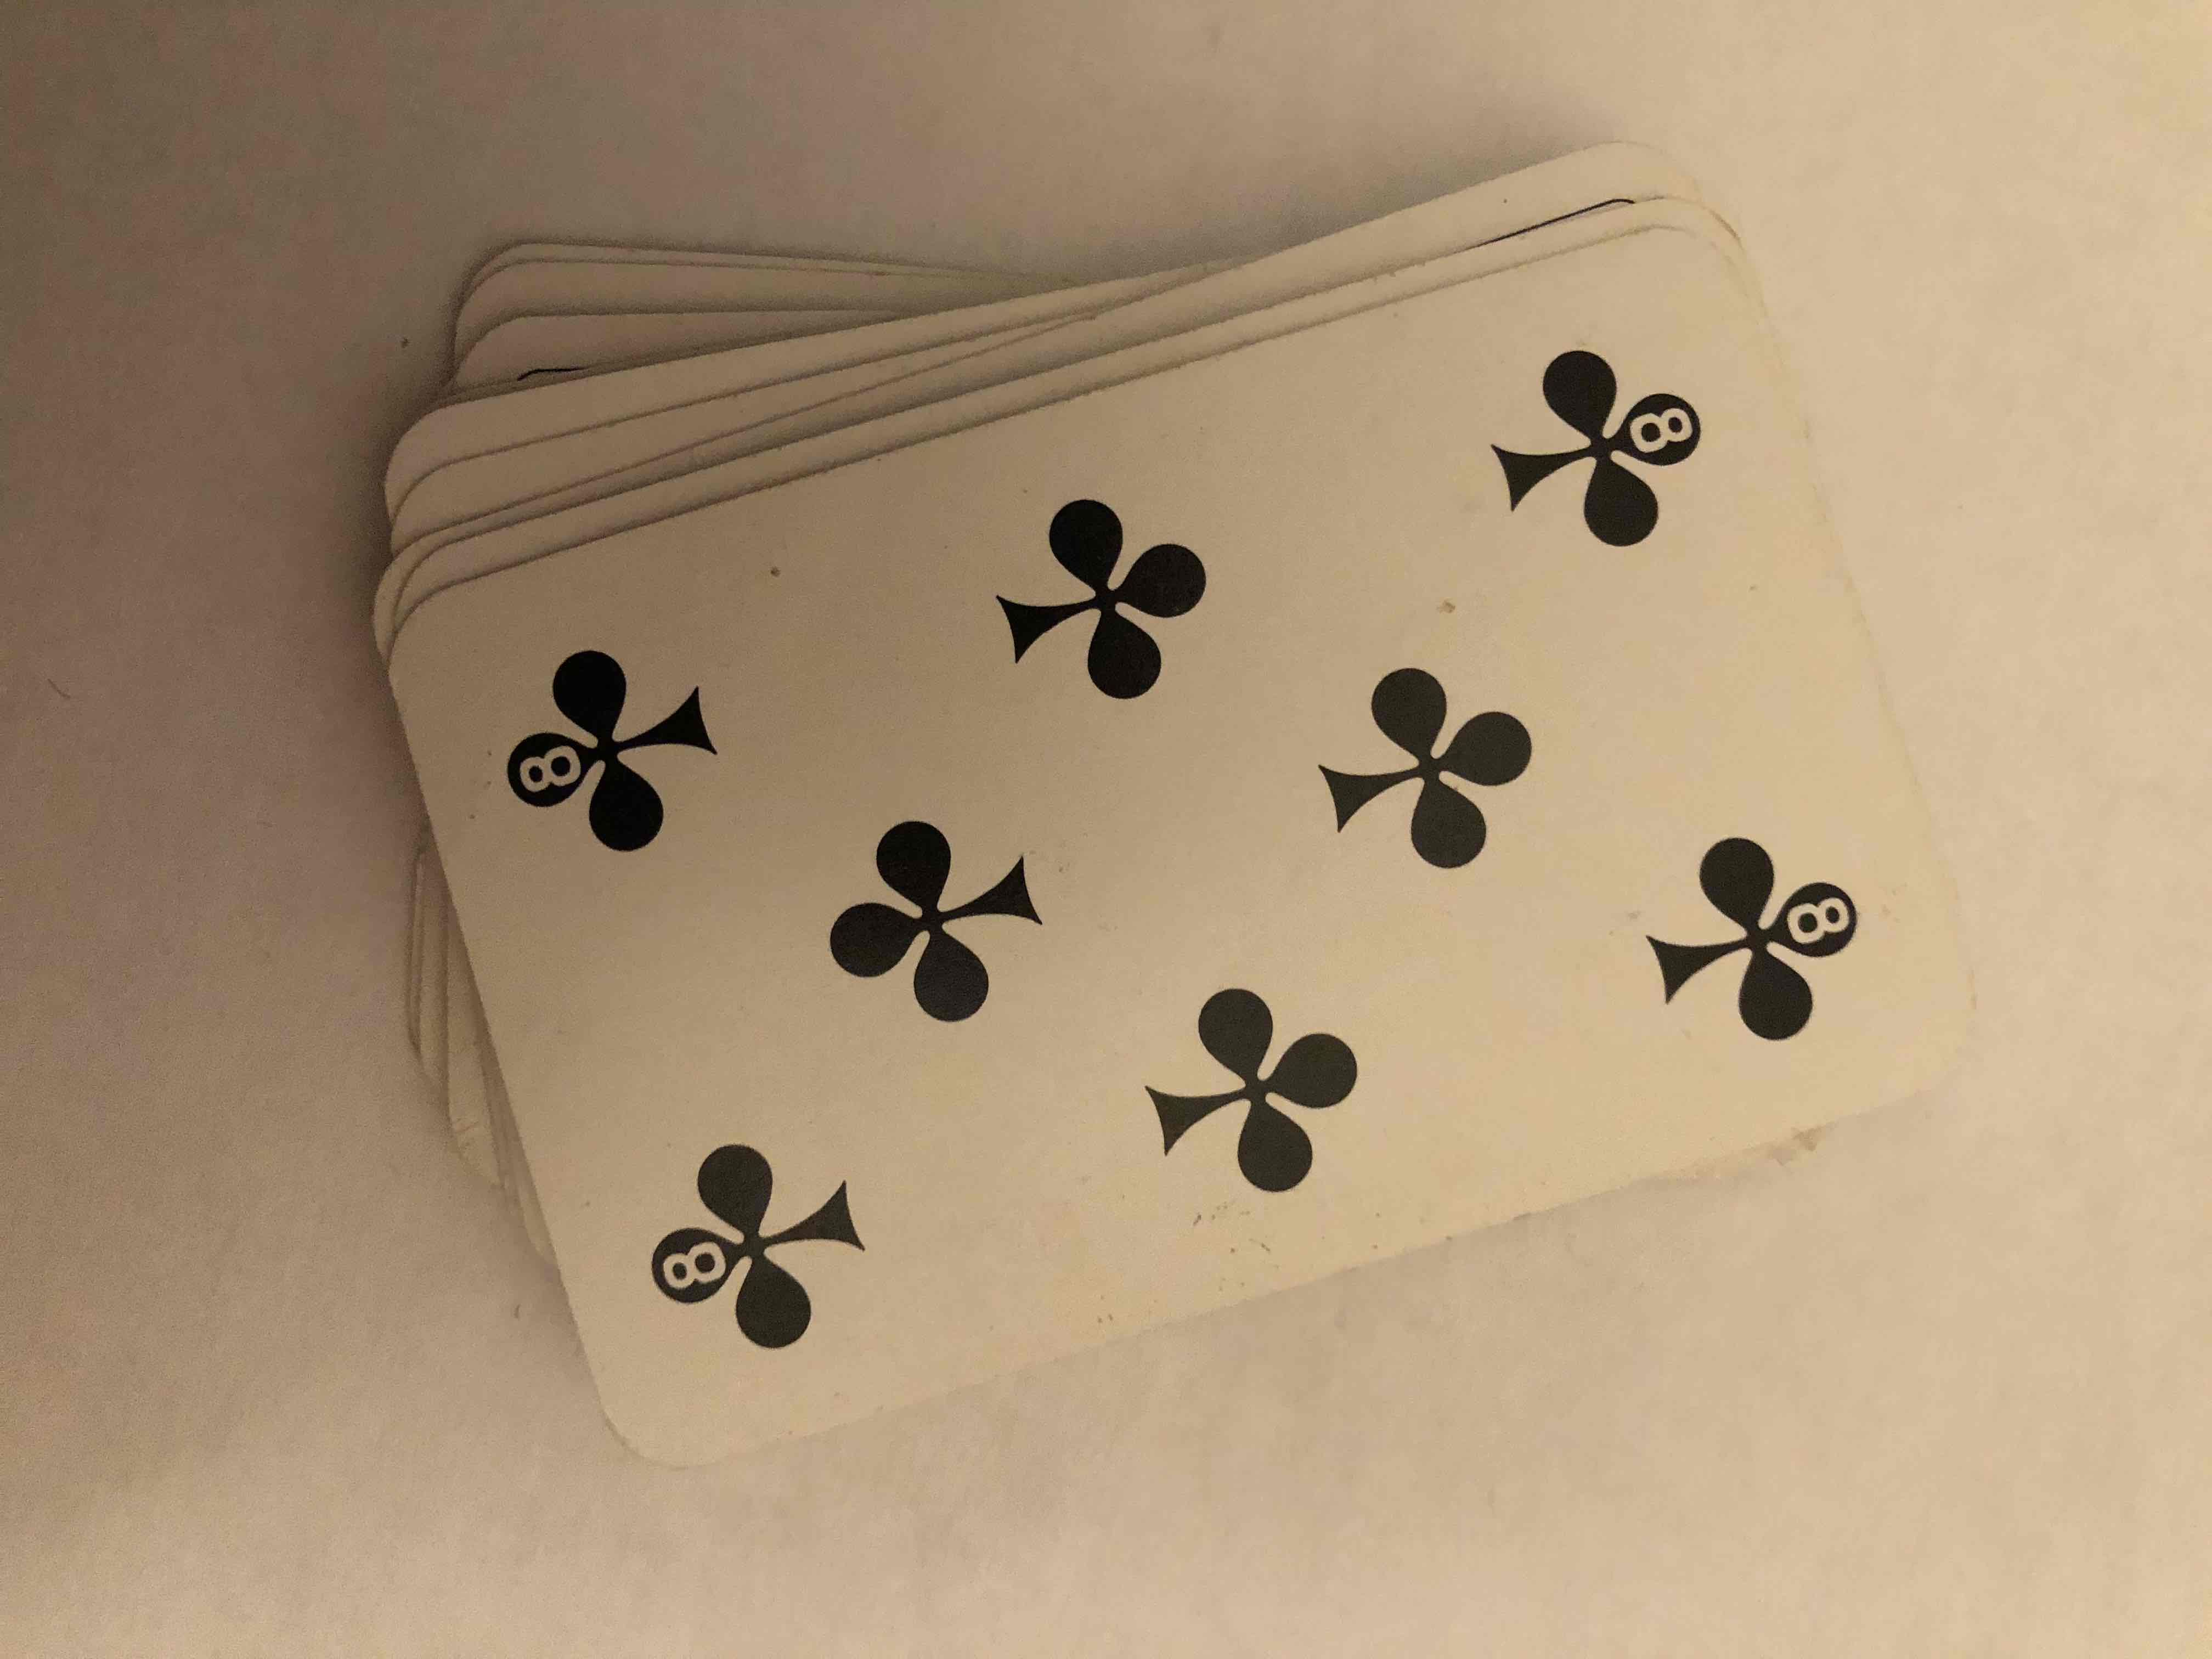clubs8: (437, 288, 2080, 1385)
